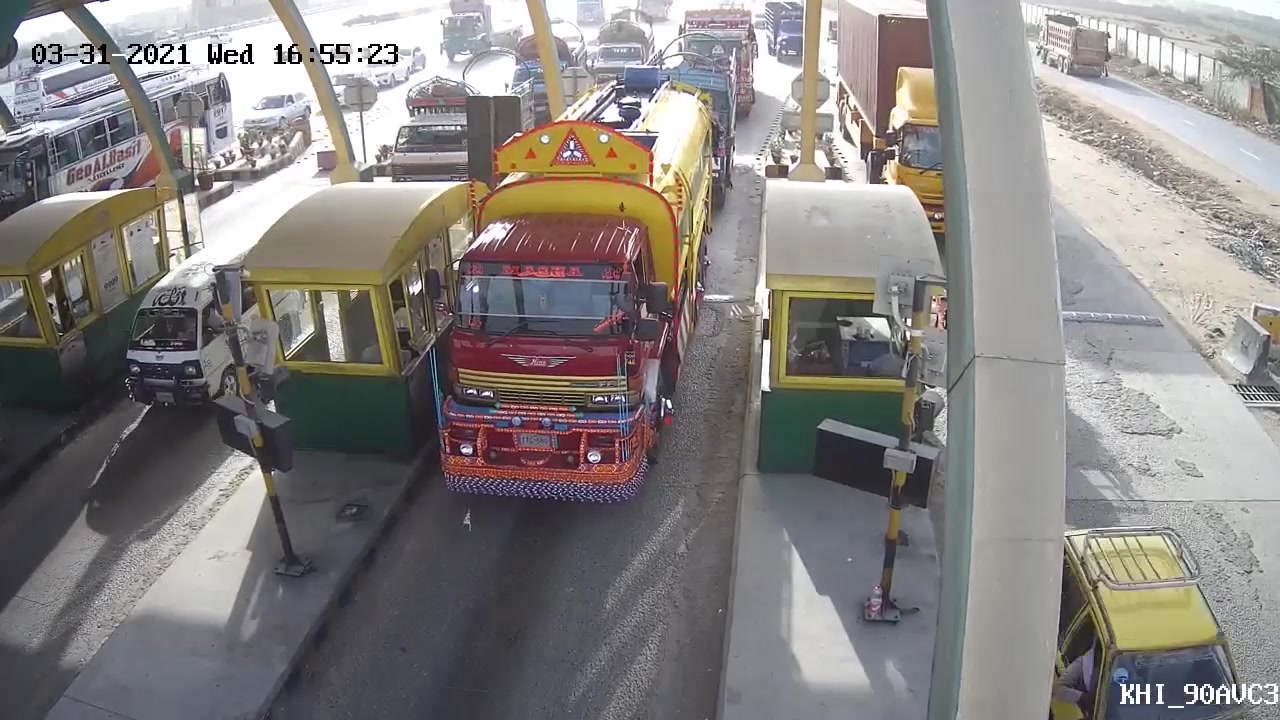F5: (437, 81, 731, 513)
